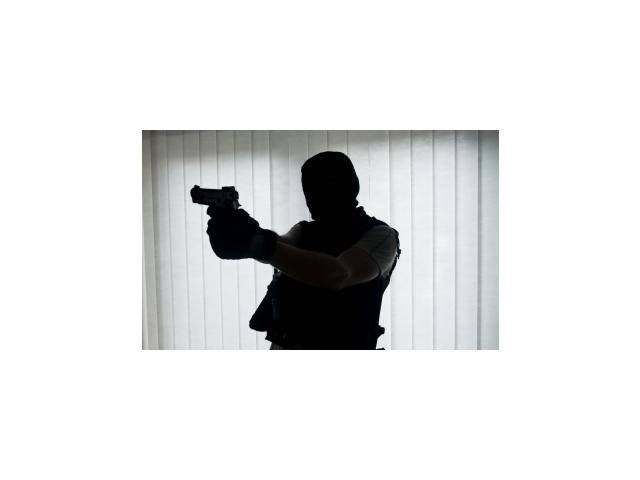pistol: (186, 184, 248, 263)
